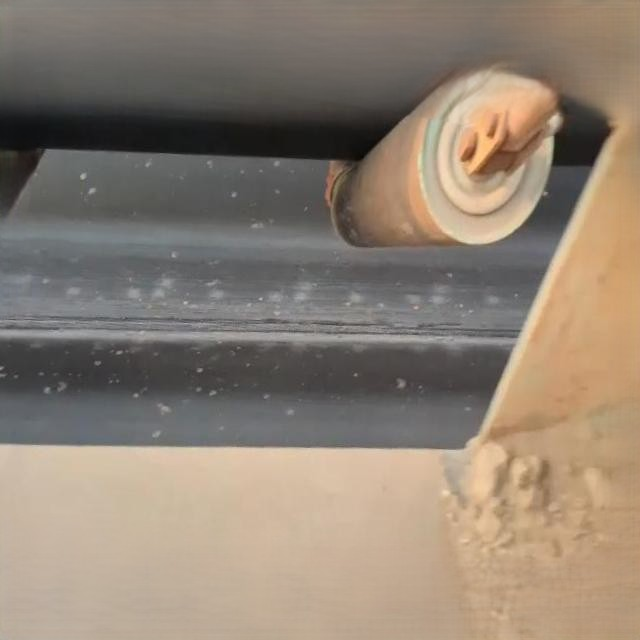Wear: (0, 311, 526, 350)
